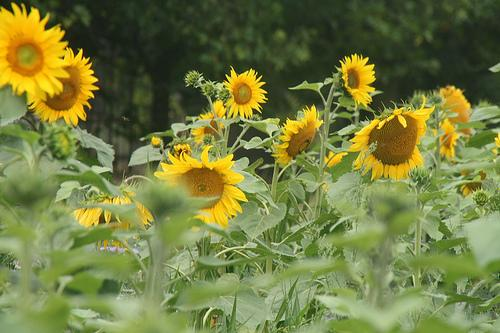sunflower: (156, 145, 246, 231), (1, 0, 68, 98), (348, 104, 433, 181), (38, 50, 97, 126), (272, 103, 323, 166), (222, 67, 266, 118), (338, 55, 379, 105)
